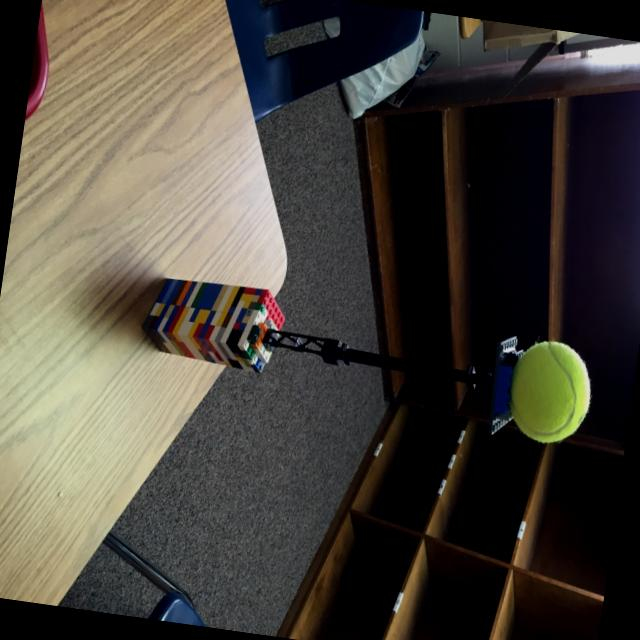Tennis Ball: (500, 334, 598, 452)
